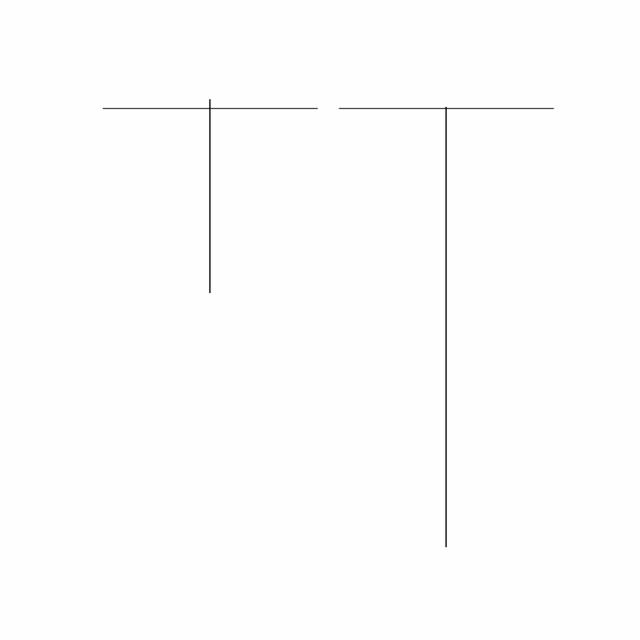Dragonfly Doji: (327, 101, 565, 552)
